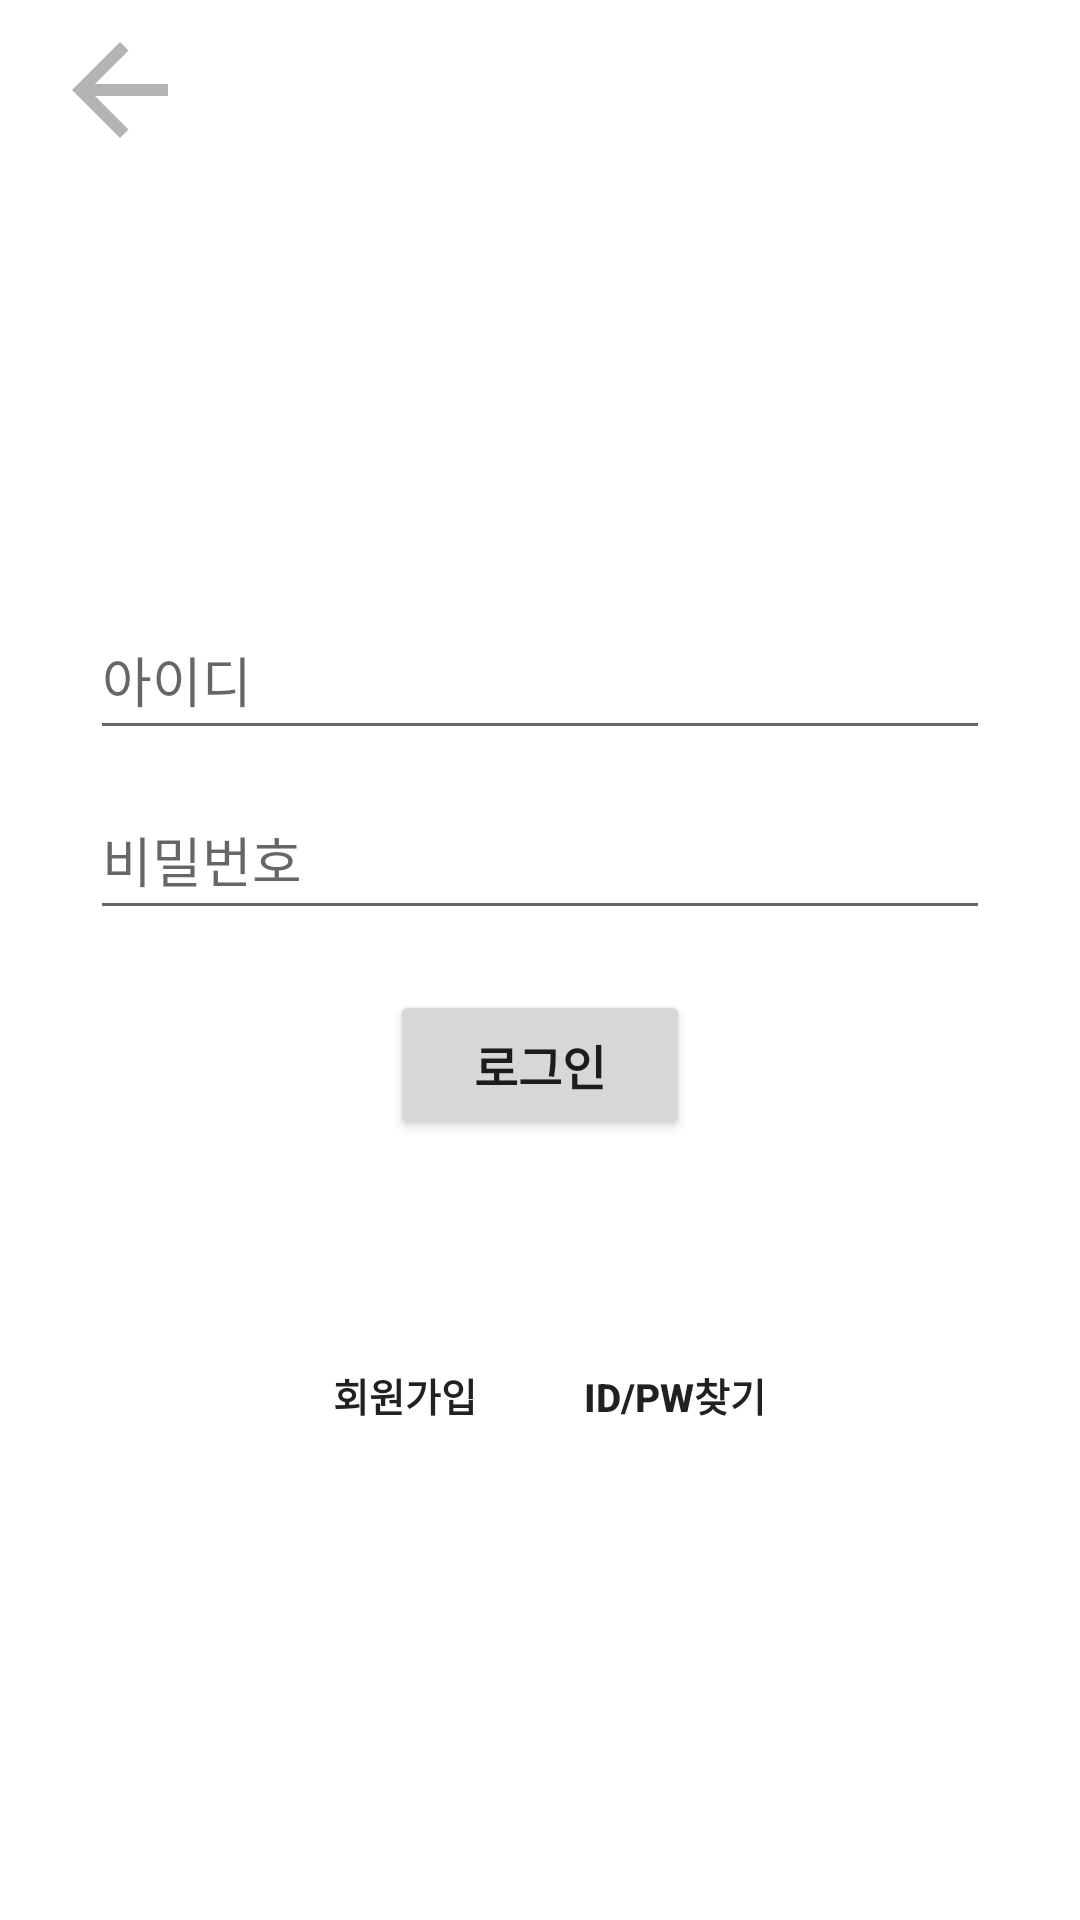

Icons on this 1080px×1920px Android screen, each with its box as box(x1, y1, x2, y2):
arrow back: box(72, 42, 168, 138)
